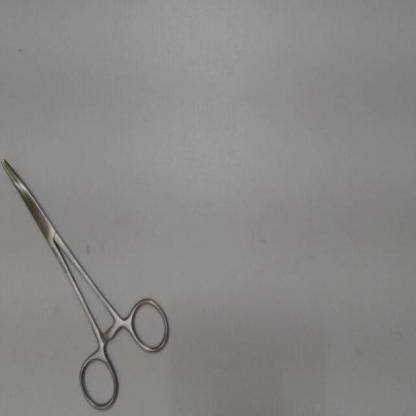Crile Artery Forceps: (1, 149, 176, 414)
